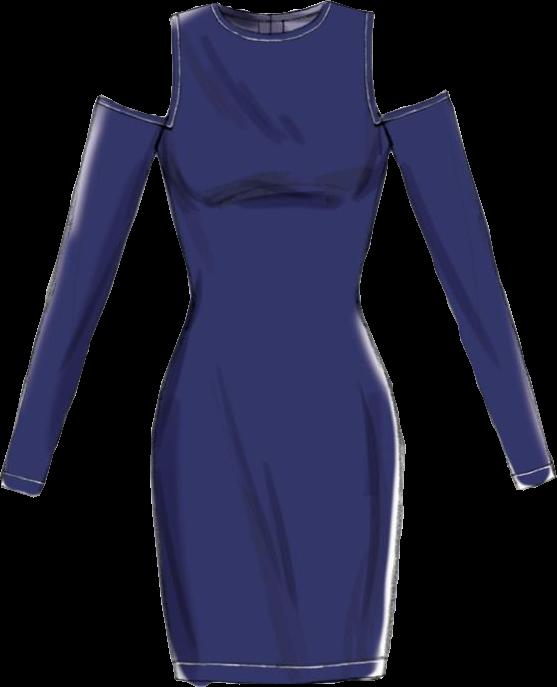Bodice: (159, 1, 391, 288)
Hemline: (172, 672, 389, 686)
Neckline: (208, 1, 330, 37)
Skirt: (150, 289, 405, 686)
Sleeve: (380, 90, 556, 489), (0, 94, 162, 497)
Sleeveline: (378, 90, 449, 149), (97, 93, 164, 154)
